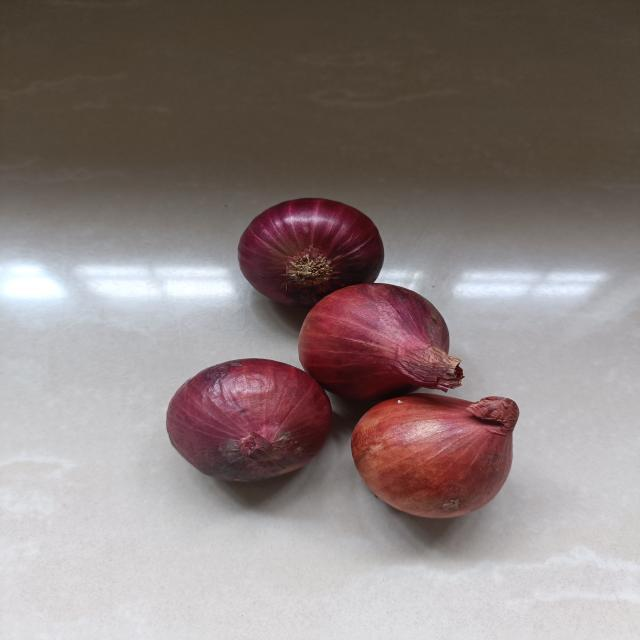onion: (348, 391, 525, 523), (163, 354, 338, 486), (294, 279, 470, 403), (233, 193, 391, 308)
